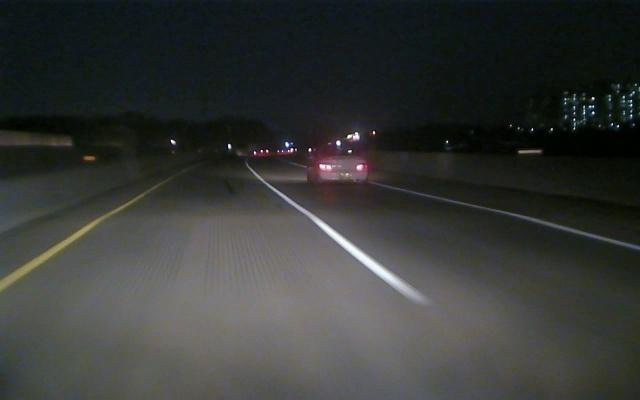lane: (262, 178, 435, 306), (375, 183, 638, 251), (2, 202, 130, 291)
